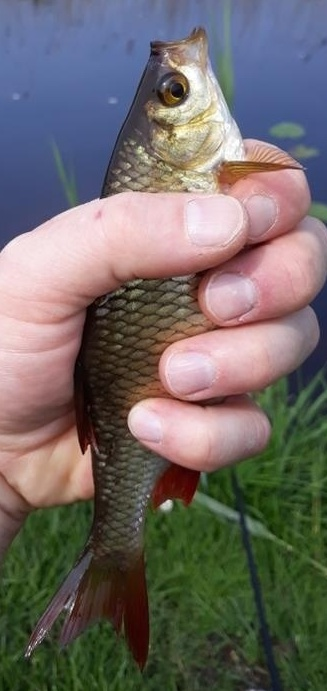Scardinius erythrophthalmus: (20, 20, 307, 671)
